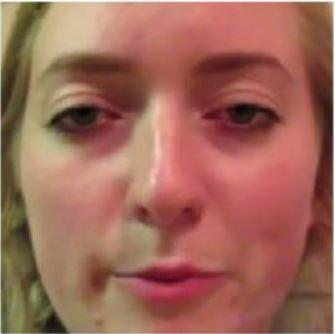Drunk: (32, 7, 302, 334)
